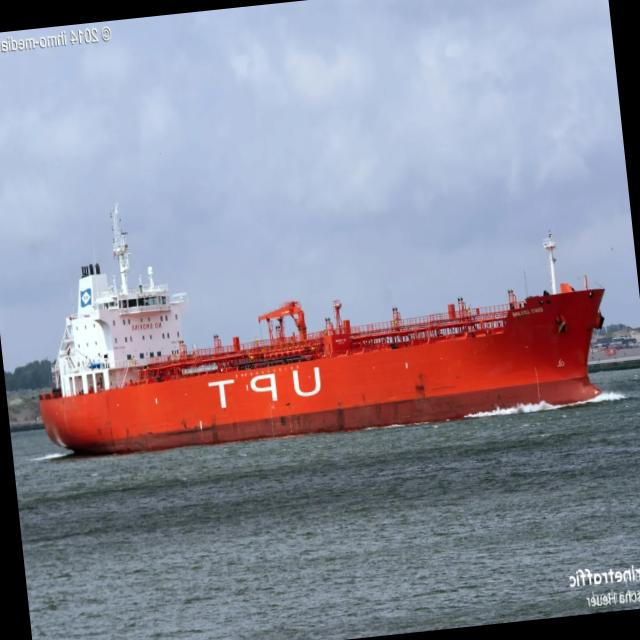Tanker: (40, 205, 604, 453), (544, 233, 556, 251)
